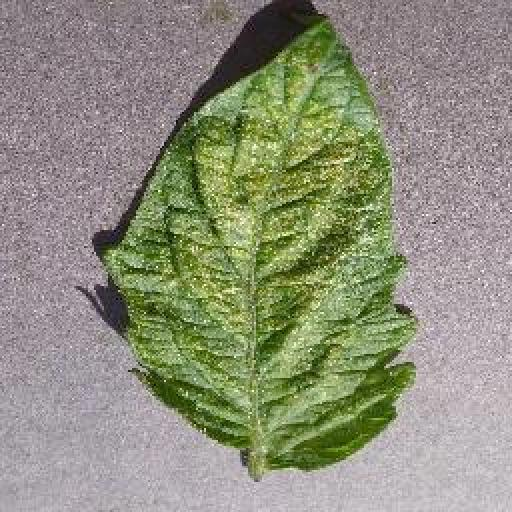disease_tomato: (105, 18, 415, 472)
